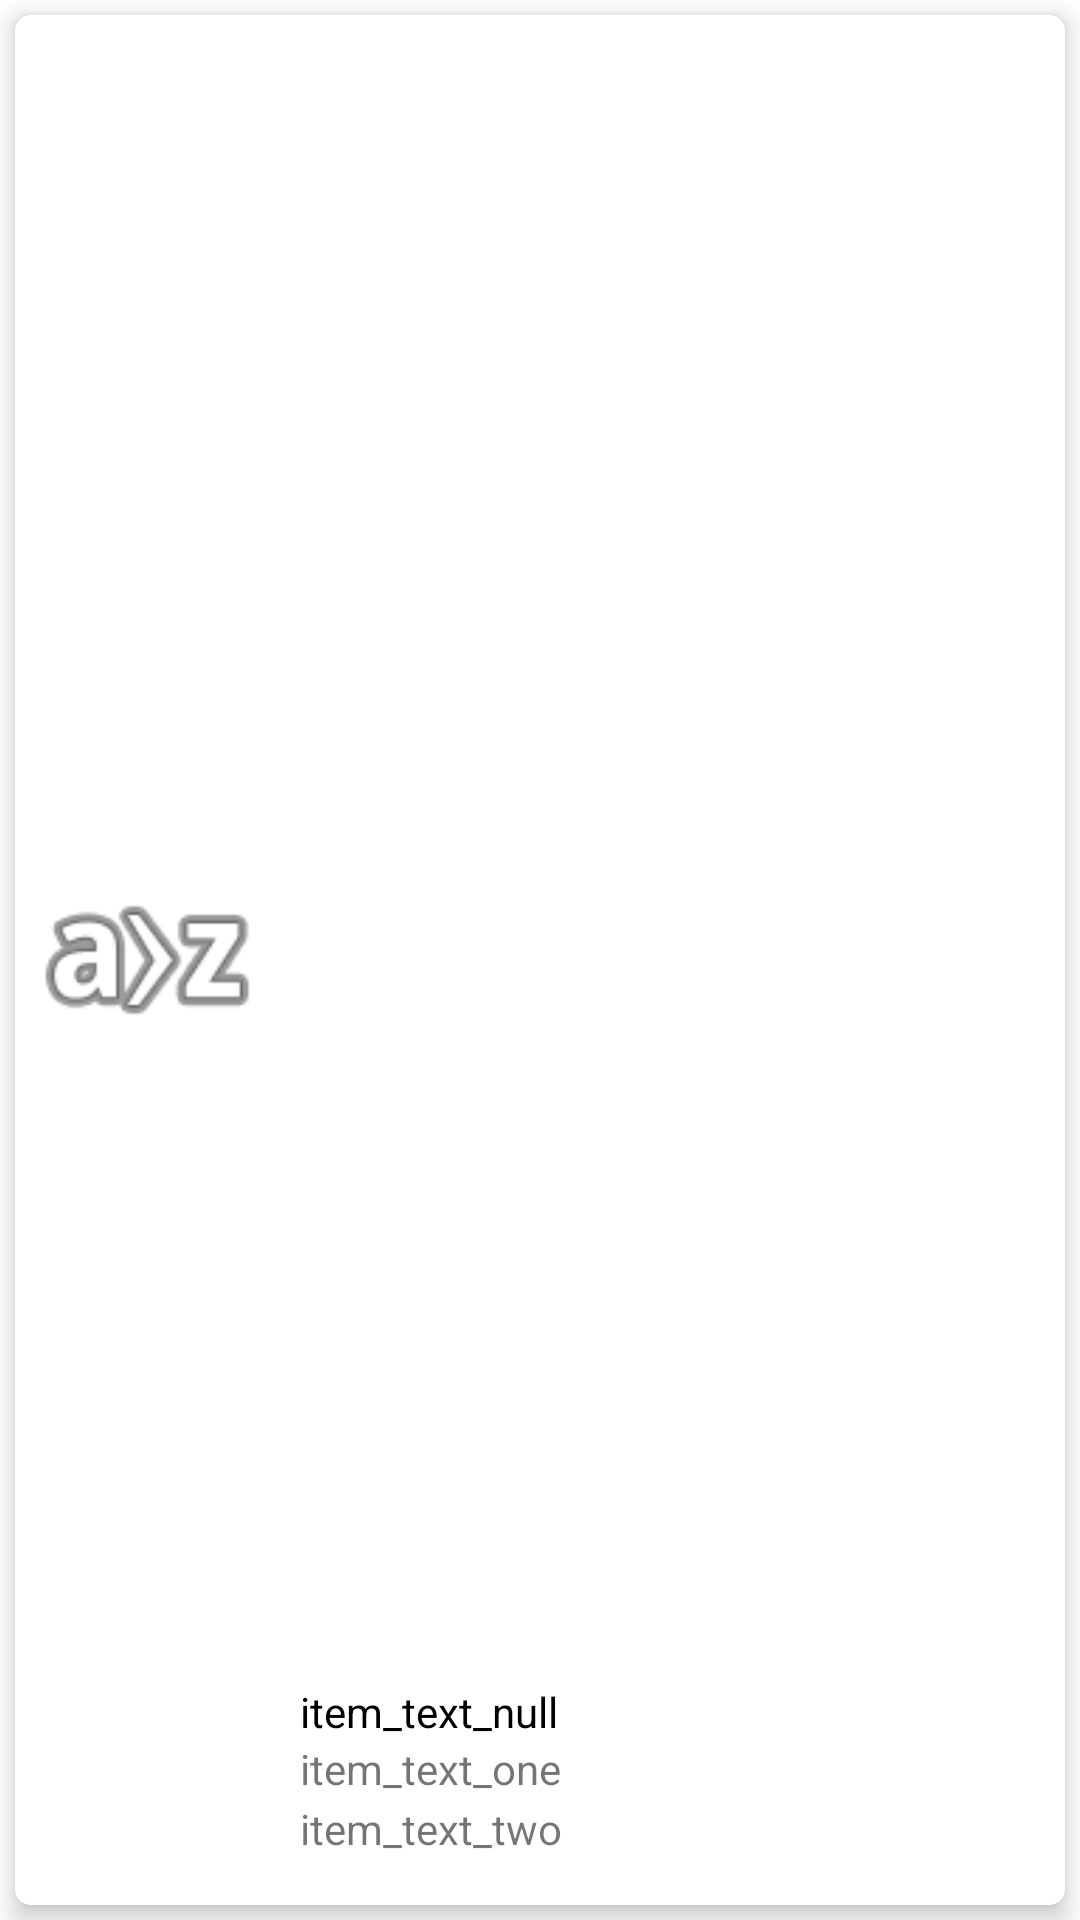

Screen size 1080px×1920px. Icon name, then its box in pixels as (x1,y1,x2,y2):
sort alphabetically: (45,906,249,1014)
